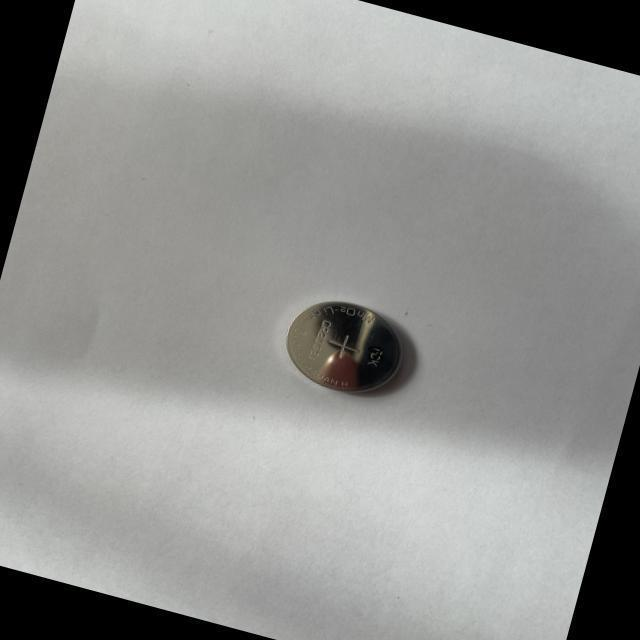COIN: (276, 288, 414, 405)
